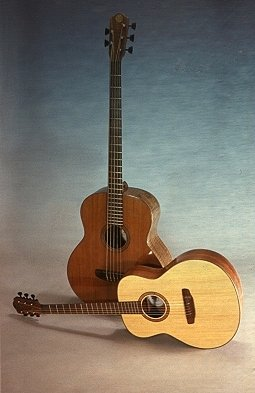guitar: (65, 14, 184, 303), (10, 250, 242, 352)
